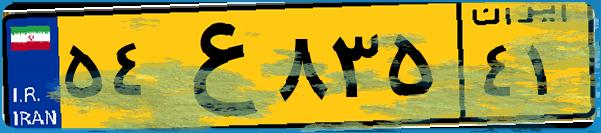1: (525, 38, 570, 115)
3: (330, 28, 385, 110)
4: (475, 38, 525, 113), (110, 28, 158, 98)
5: (385, 28, 445, 110), (57, 26, 110, 100)
8: (270, 28, 330, 110)
ع: (158, 12, 270, 120)
